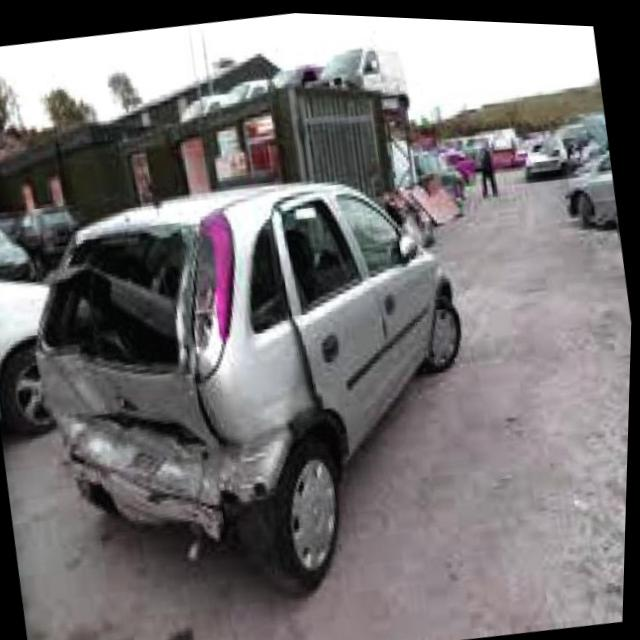Car-Damage: (14, 199, 320, 574)
